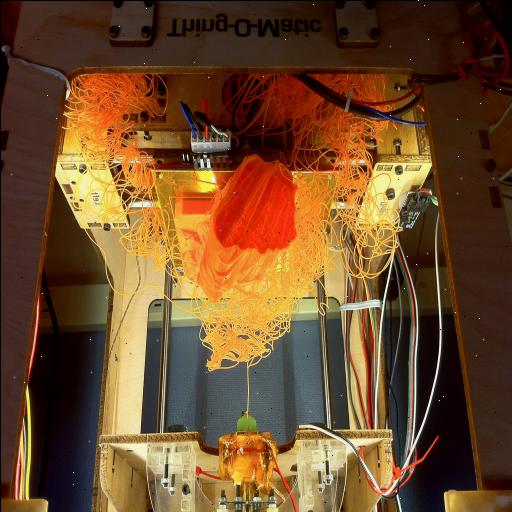spaghetti: (60, 72, 174, 260), (194, 250, 336, 372), (240, 66, 392, 162), (322, 164, 416, 282)
